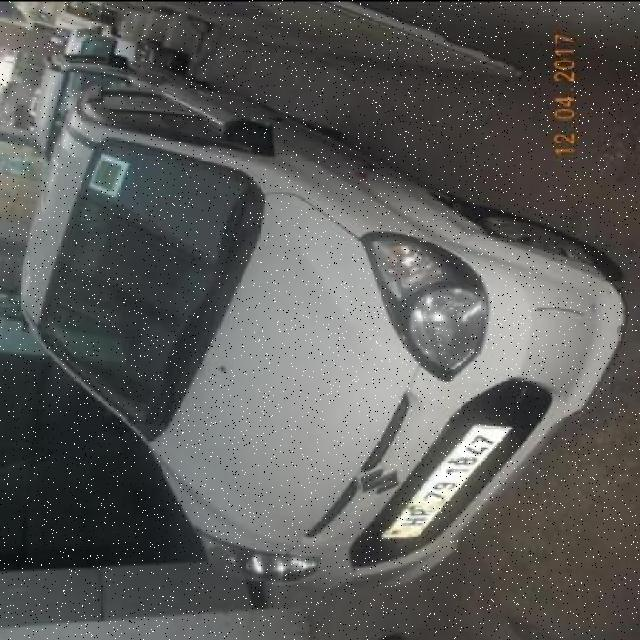damage: (528, 299, 602, 320)
